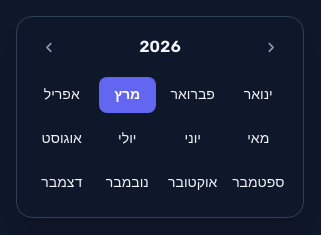
it: MonthPicker › navigates to the next year when clicking שנה הבאה
Click the button named "שנה הבאה".
click(49, 47)  # box x1=33 y1=33 x2=65 y2=61
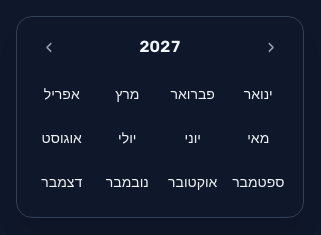
Result: the text "2027" is shown at x1=139 y1=35 x2=181 y2=59
